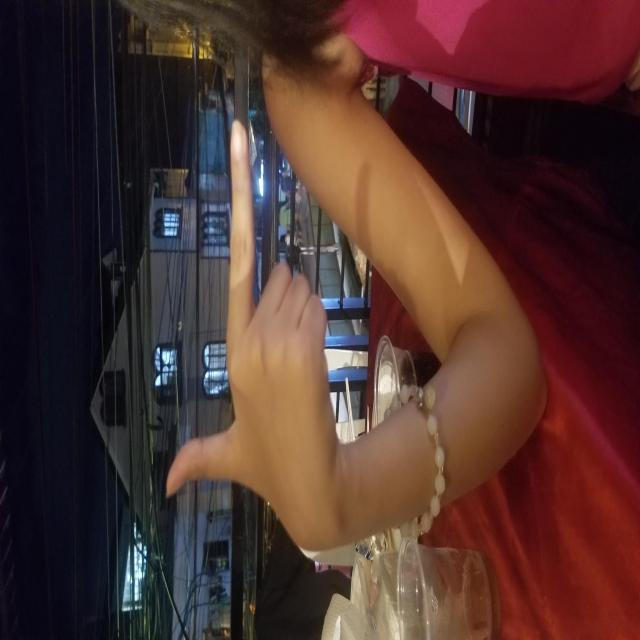G: (124, 166, 520, 337)
